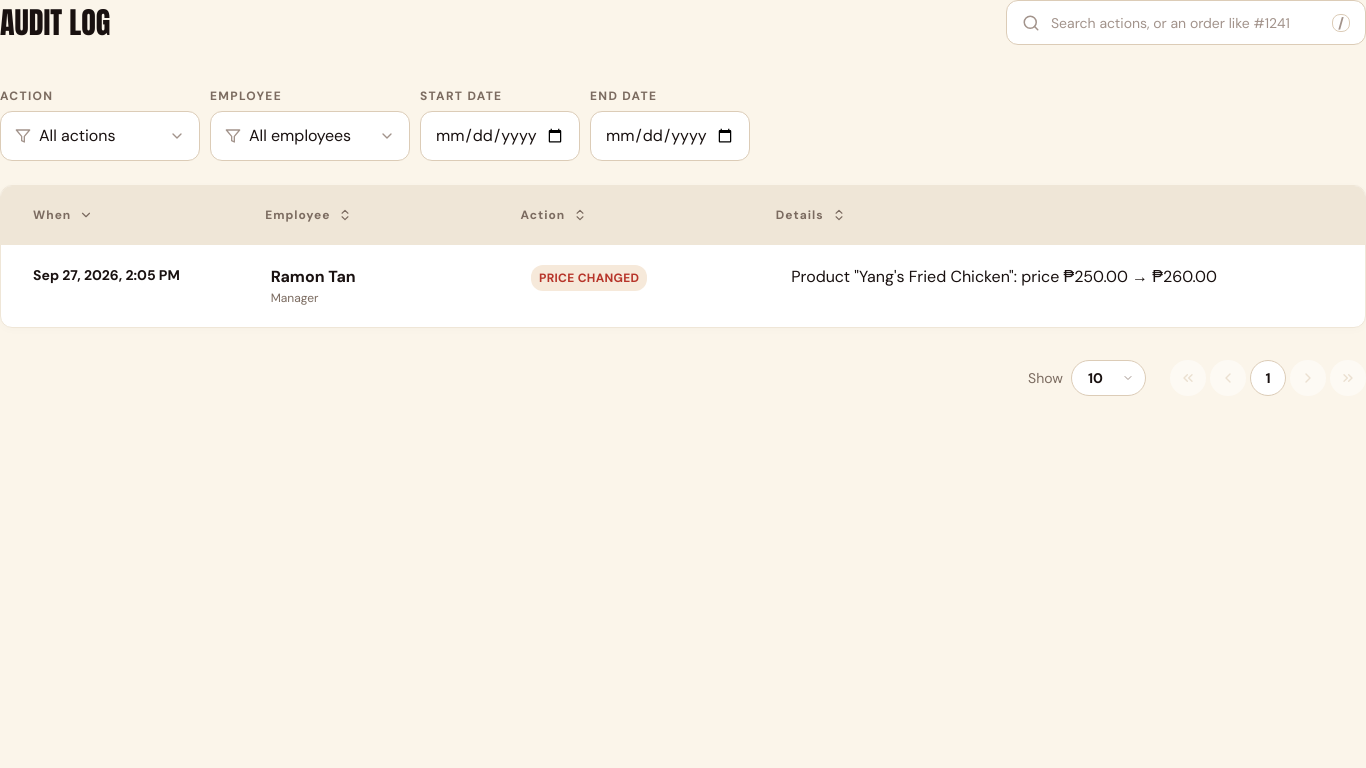
Test: Audit log page › opens an entry with its before and after values, and offers no edit or delete
This screenshot has width=1366, height=768.
Click the text "Product \"Yang's Fried Chicken\": price ₱250.00 → ₱260.00": (1004, 276) [791,266,1217,287]
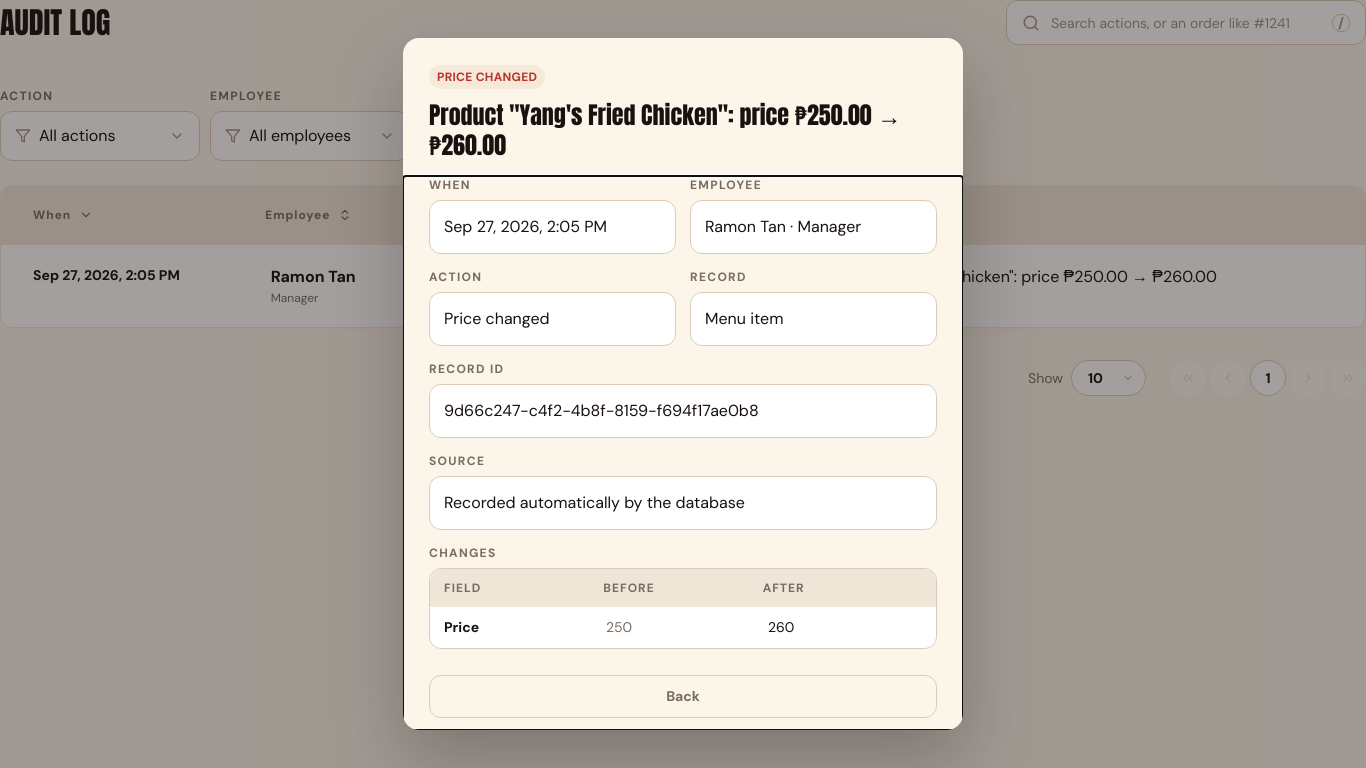
Now the text "Recorded automatically by the database" is shown, box [444,492,745,513]
Now the text "Menu item" is shown, box [705,308,783,329]
Now the text "Price" is shown, box [444,618,479,636]
